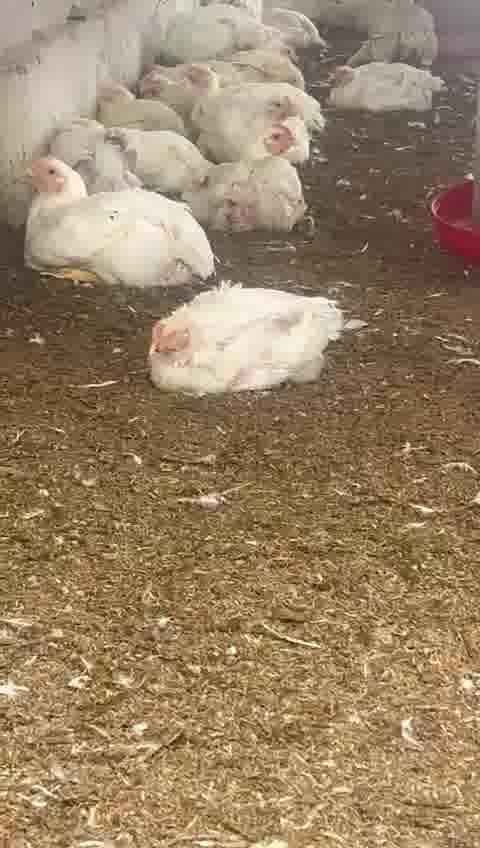AbNormal: (20, 160, 213, 288), (147, 287, 350, 400), (184, 59, 317, 156), (202, 122, 315, 224), (327, 60, 438, 116)
